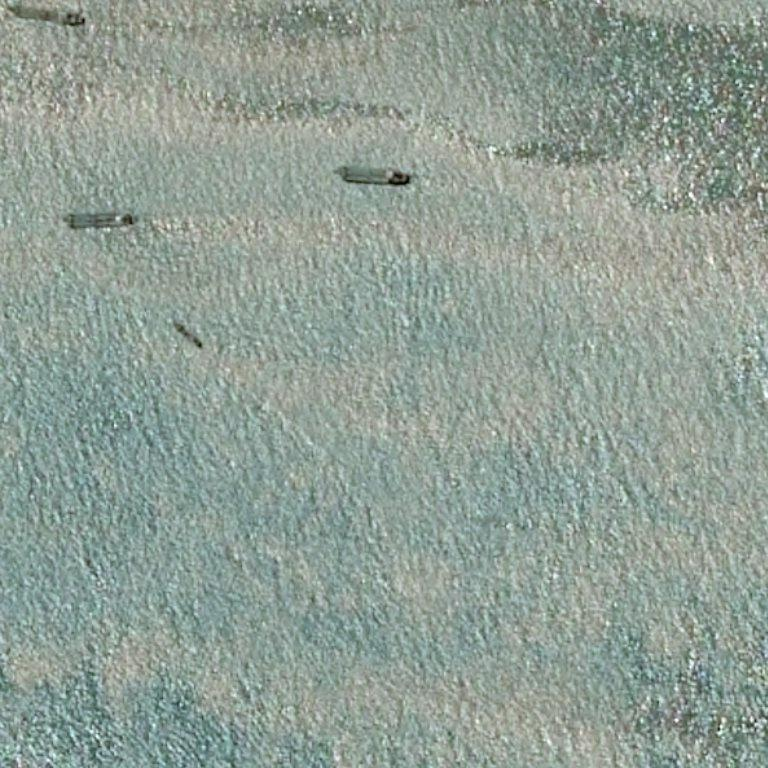ship: (170, 319, 204, 351), (43, 4, 50, 27), (21, 207, 24, 232), (373, 163, 374, 187), (128, 59, 134, 63), (337, 171, 342, 175), (404, 2, 410, 5), (76, 0, 82, 3), (63, 218, 66, 222), (130, 224, 133, 228), (404, 183, 407, 186), (8, 7, 10, 11), (78, 0, 82, 2), (173, 321, 175, 324), (46, 344, 47, 345), (198, 346, 199, 347)
